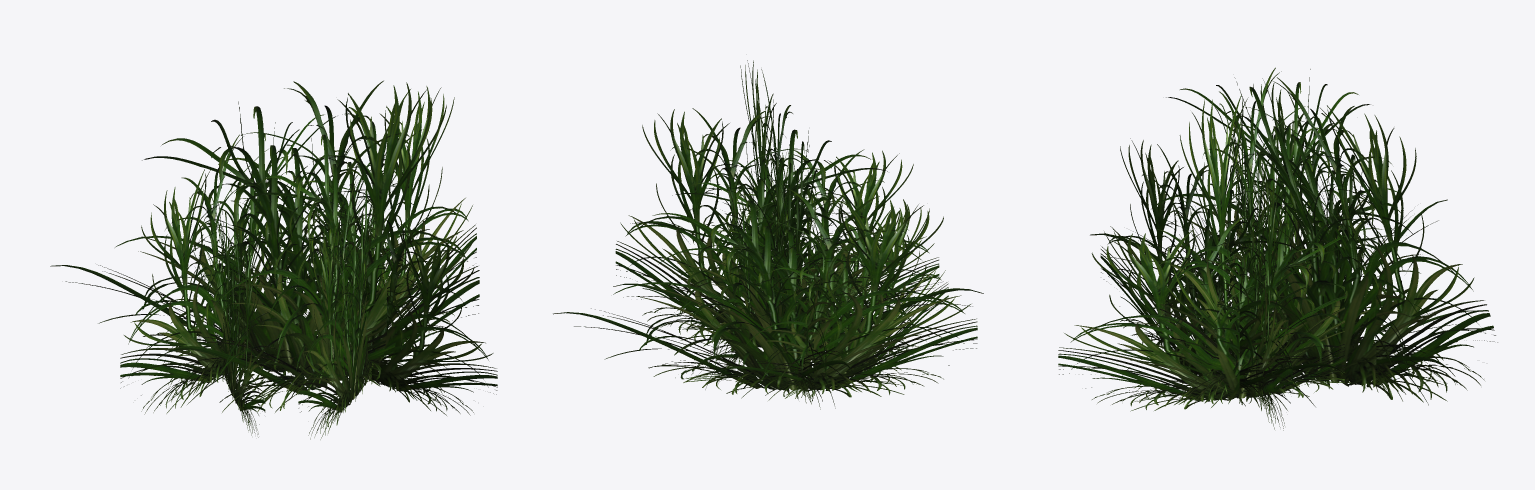
File: grass1.glb
3 views of the same model, side by side, from view 1: azimuth 30°, elevation 25°; view 2: azimuth 150°, elevation 25°; view 3: azimuth 270°, elevation 25° (orthographic). The views are drawn at different scales.
Parts seen in each view (by area): view 1: Grass; view 2: Grass; view 3: Grass.
Part boxes in pixels (<box>): Grass: <box>50,80,497,439</box>; Grass: <box>553,60,983,409</box>; Grass: <box>1058,67,1497,430</box>.
Bounding box in the file's own units: 3.25 × 2.41 × 2.99.
1 material, 1 textured.
